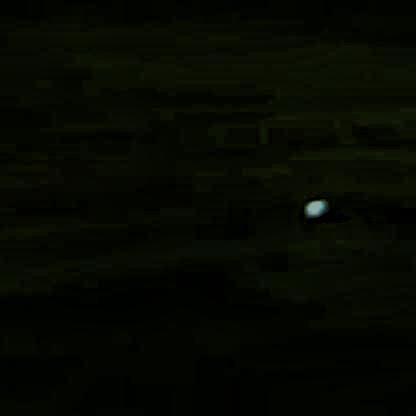golfball: (300, 197, 328, 221)
